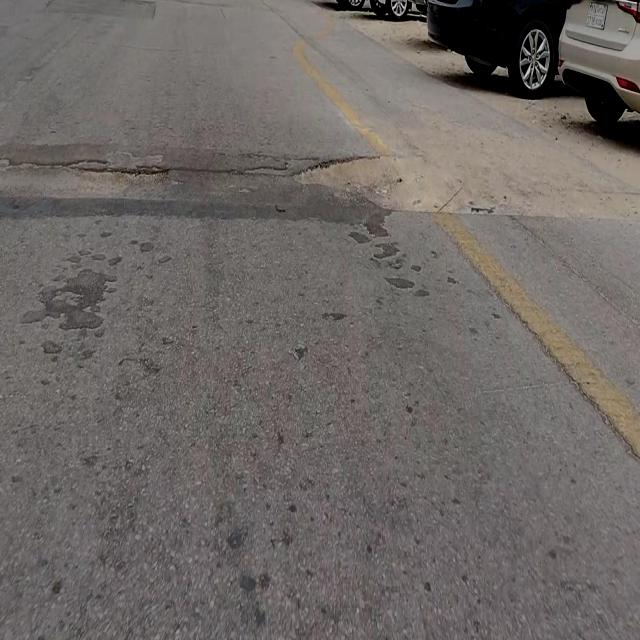Potholes: (290, 154, 480, 219), (61, 160, 172, 190)
